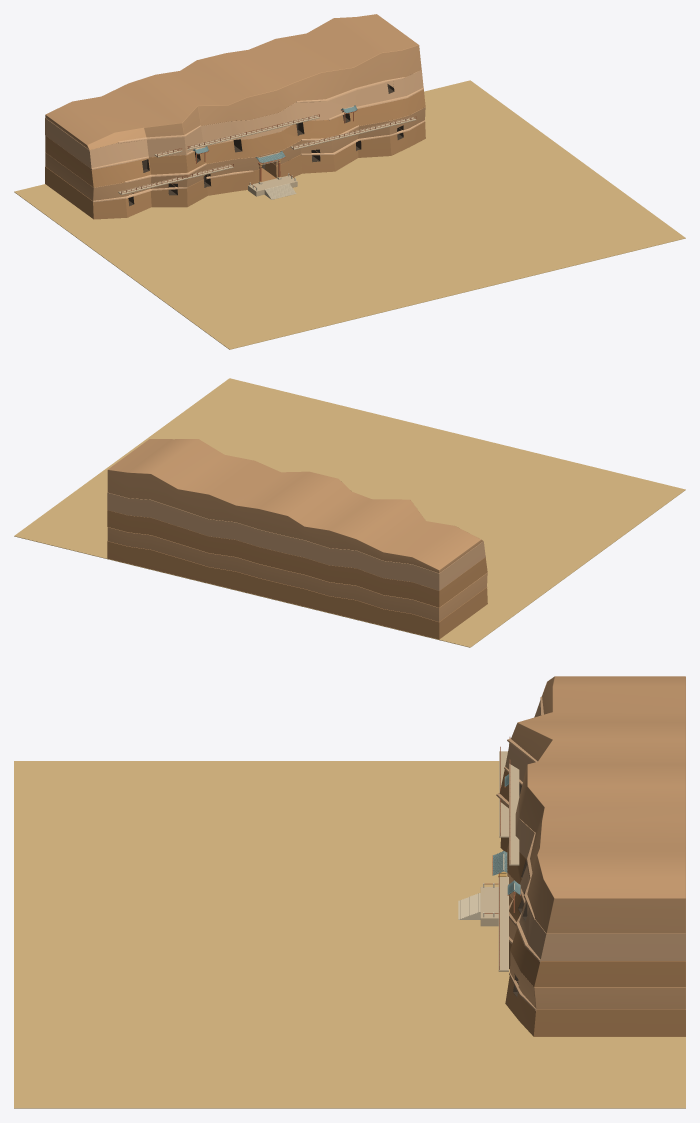
File: exterior.glb
3 views of the same model, one above another, from view 1: azimuth 30°, elevation 25°; view 2: azimuth 150°, elevation 25°; view 3: azimuth 270°, elevation 25° (orthographic). The views are drawn at different scales.
Parts seen in each view (by area): view 1: region-ground--ground-sand, cliff--sandstone-light, cliff--sandstone, cliff--sandstone-pale, cliff--sandstone-pale.001, cliff-walkways--stone, cliff-walkways--wood; view 2: region-ground--ground-sand, cliff--sandstone-light, cliff--sandstone, cliff--sandstone-pale; view 3: region-ground--ground-sand, cliff--sandstone-light, cliff--sandstone, cliff--sandstone-pale, cliff-walkways--stone, cliff--sandstone-pale.001, entry-terrace--stone.
Part boxes in pixels (bbox=[...]): region-ground--ground-sand: bbox=[14, 80, 685, 349]; cliff--sandstone-light: bbox=[45, 14, 425, 200]; cliff--sandstone: bbox=[45, 89, 425, 219]; cliff--sandstone-pale: bbox=[45, 70, 423, 168]; cliff--sandstone-pale.001: bbox=[91, 77, 425, 202]; cliff-walkways--stone: bbox=[118, 115, 416, 194]; cliff-walkways--wood: bbox=[121, 114, 416, 193]; region-ground--ground-sand: bbox=[14, 378, 685, 647]; cliff--sandstone-light: bbox=[107, 439, 487, 621]; cliff--sandstone: bbox=[107, 510, 487, 639]; cliff--sandstone-pale: bbox=[107, 492, 485, 590]; region-ground--ground-sand: bbox=[14, 761, 685, 1108]; cliff--sandstone-light: bbox=[500, 676, 685, 1009]; cliff--sandstone: bbox=[499, 769, 685, 1036]; cliff--sandstone-pale: bbox=[505, 682, 685, 960]; cliff-walkways--stone: bbox=[498, 742, 519, 971]; cliff--sandstone-pale.001: bbox=[496, 696, 543, 1011]; entry-terrace--stone: bbox=[480, 887, 498, 926].
Size of the model in its own units: 220 by 44.25 by 180.
Materials: 13 (1 with a texture image).
